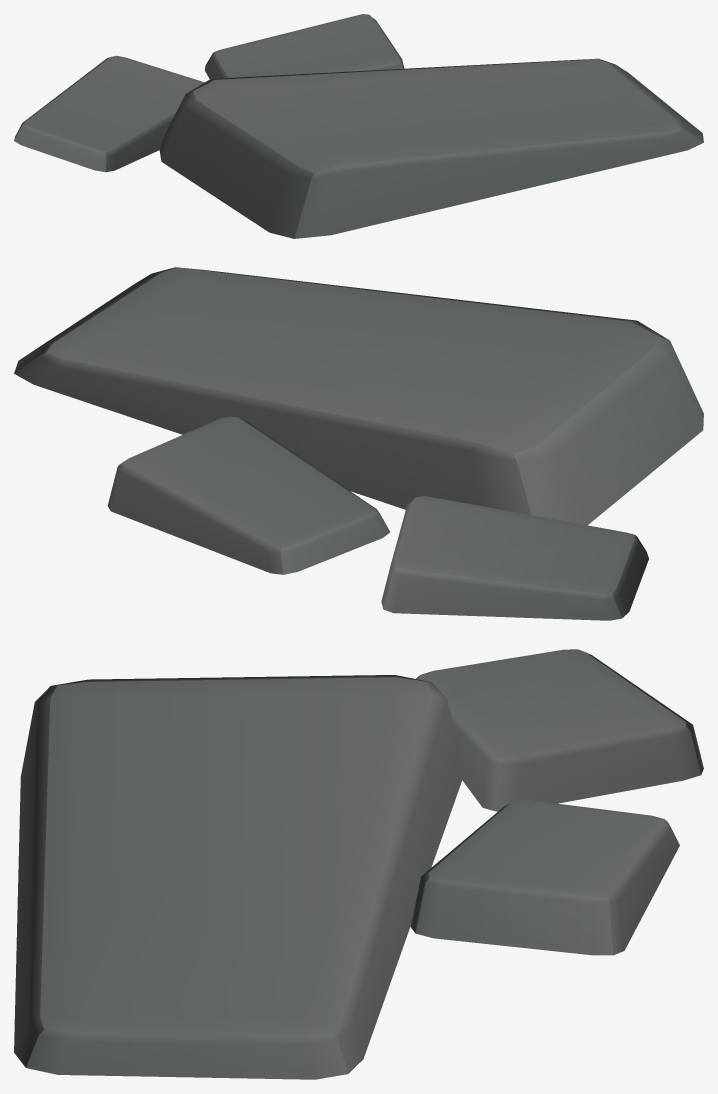
The model's file is SM_Stones.fbx.
3 renders of one model, top to bottom at view 1: azimuth 30°, elevation 25°; view 2: azimuth 150°, elevation 25°; view 3: azimuth 270°, elevation 25°, orthographic. The views are drawn at different scales.
Visible parts, largest first — view 1: SM_Stones; view 2: SM_Stones; view 3: SM_Stones.
Part boxes in pixels (x1=…): SM_Stones: x1=14, y1=14, x2=703, y2=238; SM_Stones: x1=14, y1=267, x2=703, y2=620; SM_Stones: x1=14, y1=649, x2=703, y2=1079.
Size of the model in its own units: 158 by 17.01 by 111.
1 material, 1 textured.
